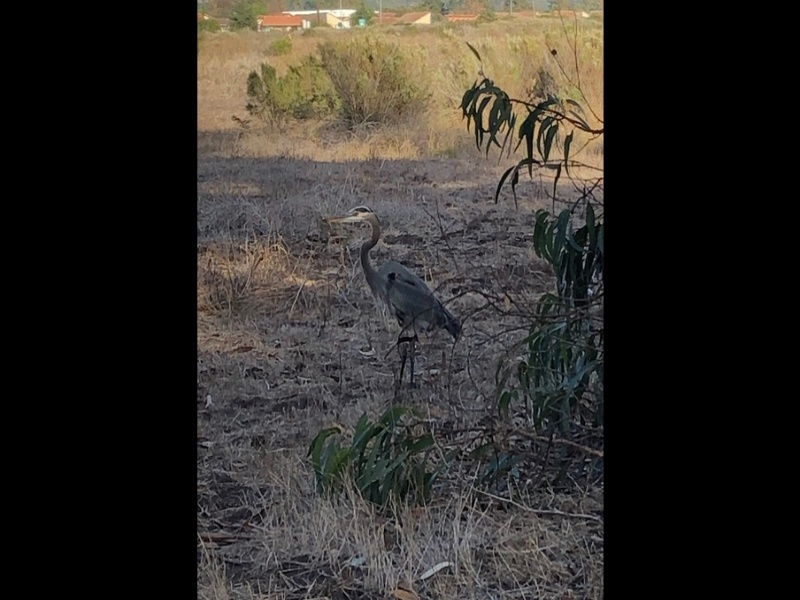heron: (328, 206, 467, 390)
